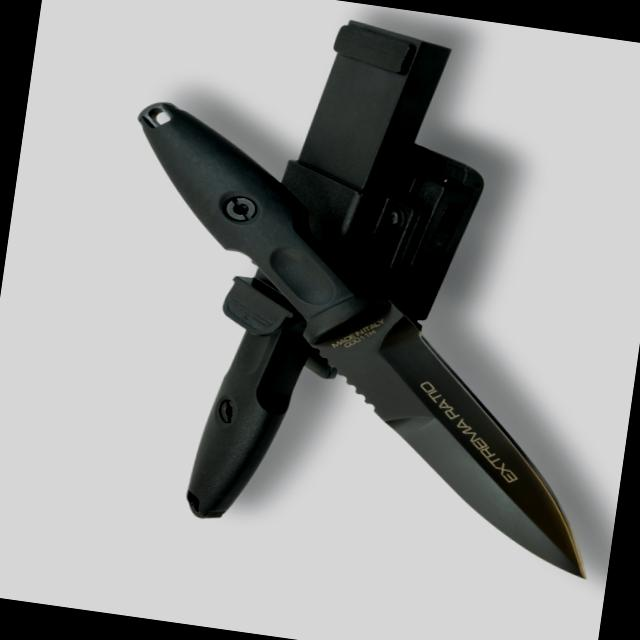knife: (274, 292, 630, 586)
